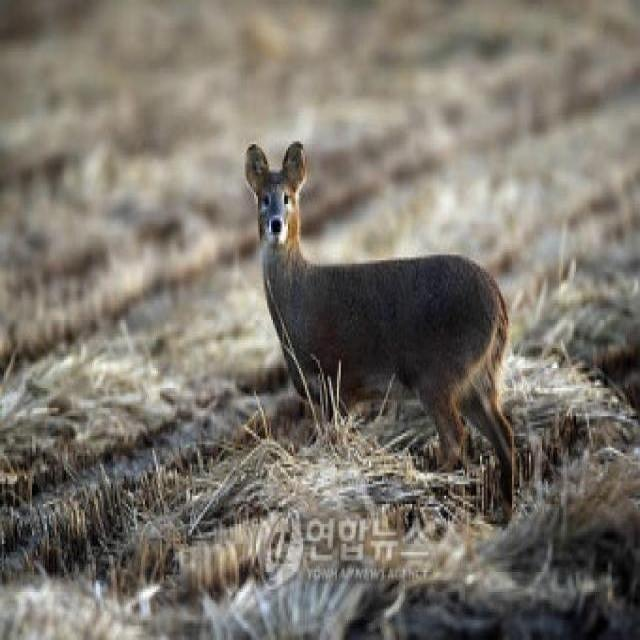deer: (238, 123, 556, 512)
